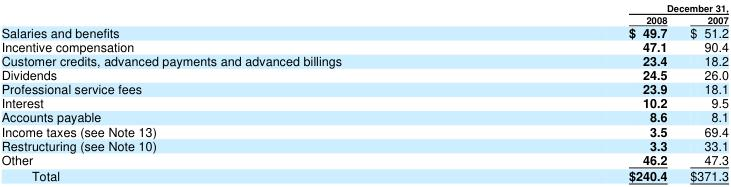table: (0, 0, 727, 183)
table column: (0, 0, 484, 183), (484, 0, 677, 183), (677, 0, 727, 183)
table column header: (0, 0, 727, 24)
table row: (0, 166, 727, 183), (0, 24, 727, 39), (0, 151, 727, 166), (0, 39, 727, 53), (0, 53, 727, 67), (0, 67, 727, 81), (0, 81, 727, 95), (0, 95, 727, 109), (0, 109, 727, 123), (0, 123, 727, 137), (0, 137, 727, 151), (0, 0, 727, 13), (0, 13, 727, 24)
table spanning cell: (484, 0, 727, 13)
